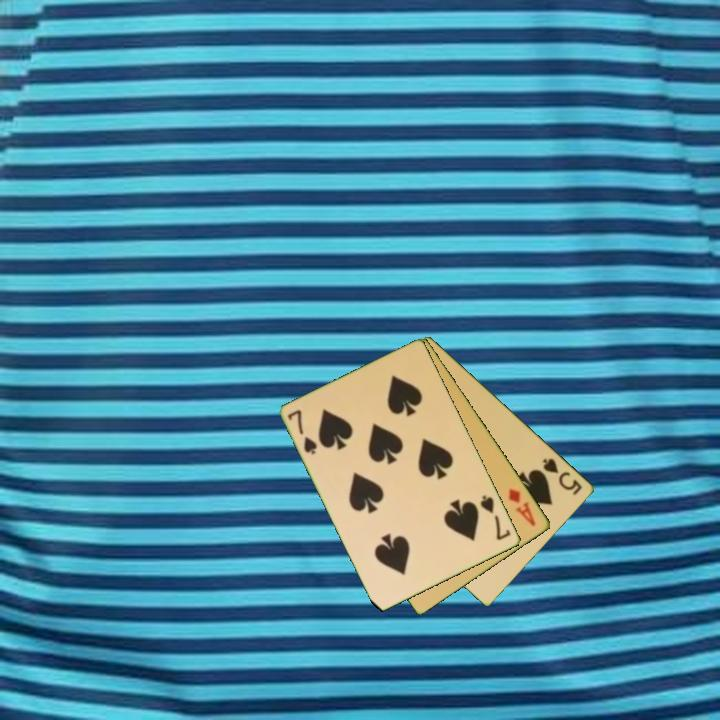5s: (539, 454, 585, 498)
7s: (477, 492, 514, 543), (284, 406, 320, 458)
Ad: (505, 485, 539, 529)
